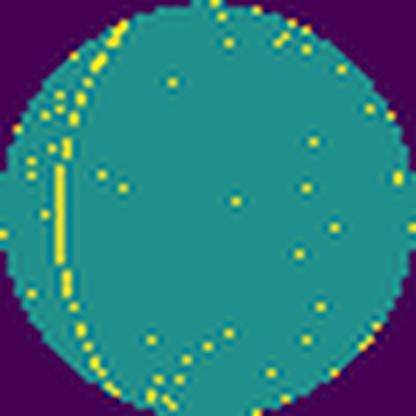Scratch: (49, 14, 132, 398)
